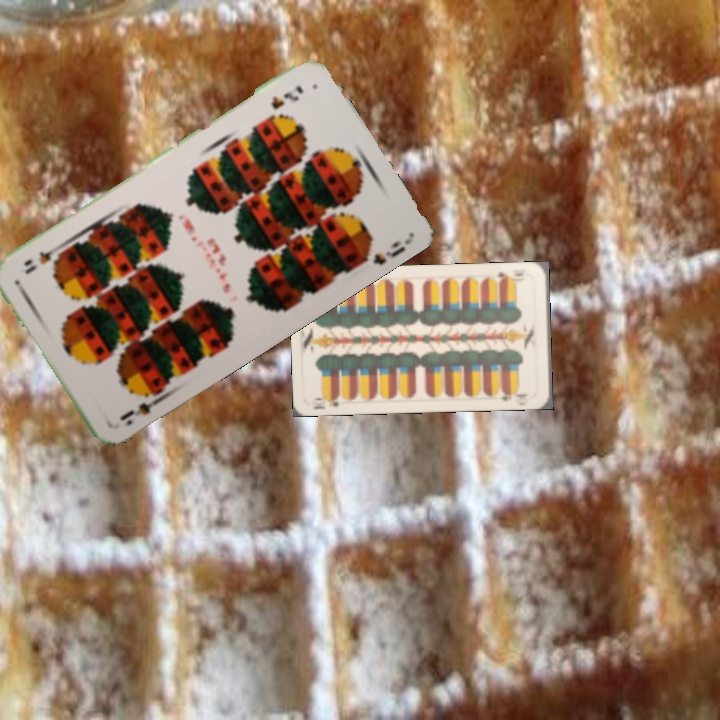E10: (308, 391, 342, 411), (494, 268, 527, 285)
S9: (115, 385, 166, 424), (267, 81, 306, 112)
